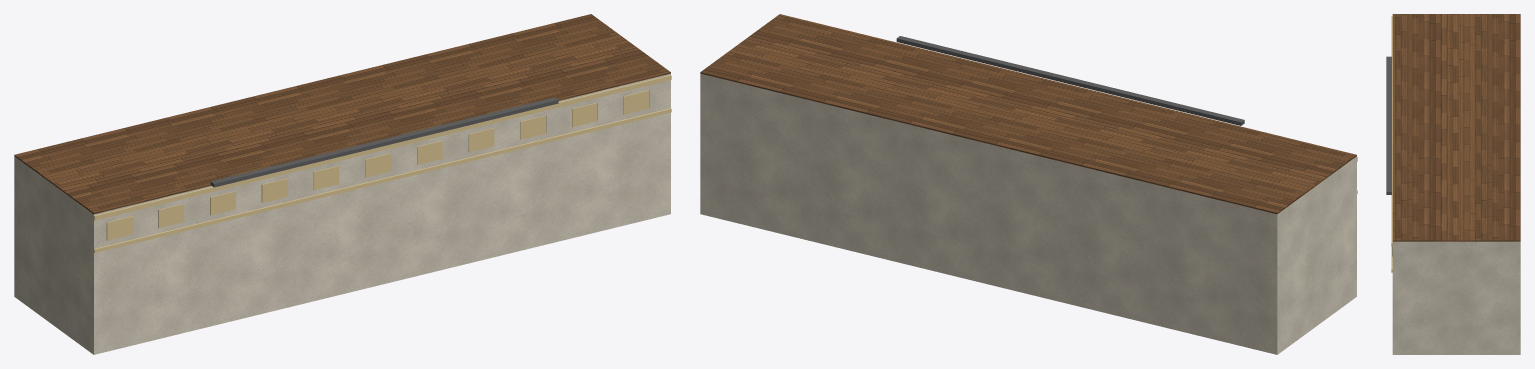
The model's file is stage.glb.
3 views of the same model, side by side, from view 1: azimuth 30°, elevation 25°; view 2: azimuth 150°, elevation 25°; view 3: azimuth 270°, elevation 25° (orthographic). The views are drawn at different scales.
Visible parts, largest first — view 1: stage_trim, stage_stagefl, stage_gold, stage_dark; view 2: stage_trim, stage_stagefl, stage_dark; view 3: stage_stagefl, stage_trim, stage_dark, stage_gold.
Part boxes in pixels (x1=…): stage_trim: x1=14, y1=73, x2=670, y2=354; stage_stagefl: x1=14, y1=14, x2=670, y2=214; stage_gold: x1=94, y1=75, x2=671, y2=252; stage_dark: x1=210, y1=97, x2=558, y2=187; stage_trim: x1=700, y1=73, x2=1356, y2=354; stage_stagefl: x1=700, y1=14, x2=1356, y2=214; stage_dark: x1=896, y1=36, x2=1244, y2=125; stage_stagefl: x1=1392, y1=14, x2=1520, y2=241; stage_trim: x1=1392, y1=241, x2=1520, y2=354; stage_dark: x1=1386, y1=56, x2=1391, y2=194; stage_gold: x1=1391, y1=16, x2=1392, y2=272.
Bounding box in the file's own units: 13.4 × 3.23 × 3.36.
Materials: 5 (2 with a texture image).
